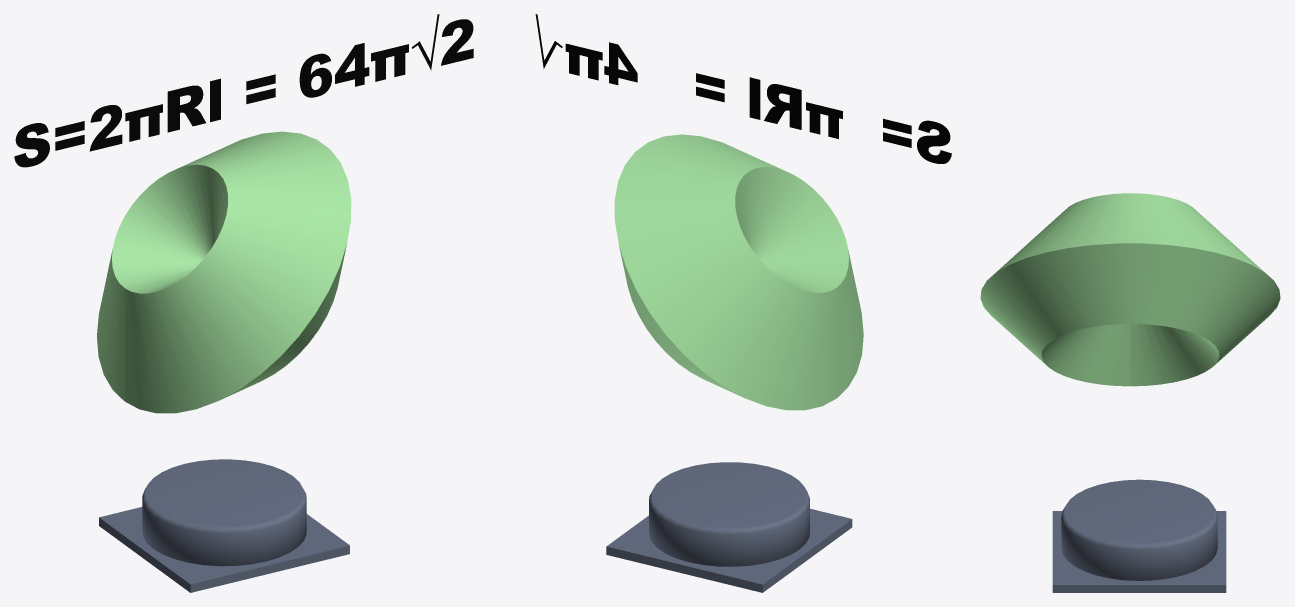
The picture shows the model from 3 angles, left to right: view 1: azimuth 30°, elevation 25°; view 2: azimuth 150°, elevation 25°; view 3: azimuth 270°, elevation 25°; orthographic projection. The views are drawn at different scales.
Visible parts, largest first — view 1: Cube.001, Cube, Text.006; view 2: Cube.001, Cube, Text.006; view 3: Cube.001, Cube.
Part boxes in pixels (left/top/right/bottom): Cube.001: left=97, top=131, right=351, bottom=413; Cube: left=99, top=459, right=349, bottom=592; Text.006: left=14, top=14, right=473, bottom=167; Cube.001: left=614, top=134, right=863, bottom=410; Cube: left=606, top=462, right=852, bottom=592; Text.006: left=535, top=14, right=951, bottom=163; Cube.001: left=980, top=193, right=1280, bottom=386; Cube: left=1052, top=479, right=1226, bottom=592.
Bounding box in the file's own units: 26.31 × 26.36 × 15.71.
